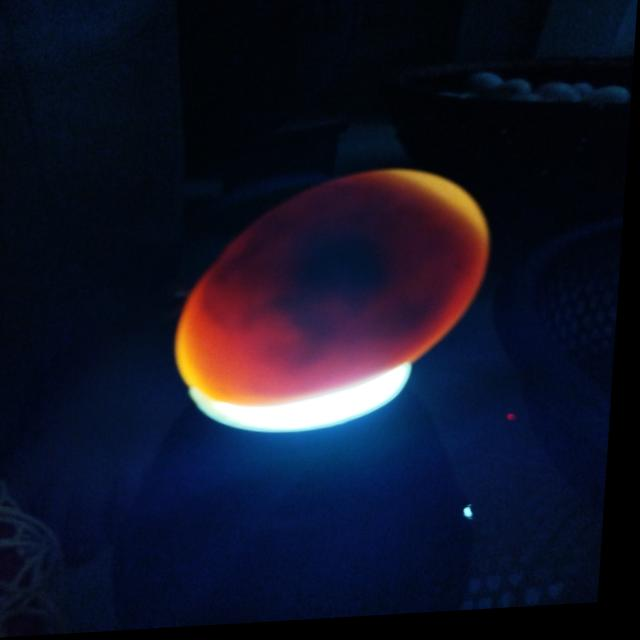Area Infectada: (207, 188, 468, 369)
